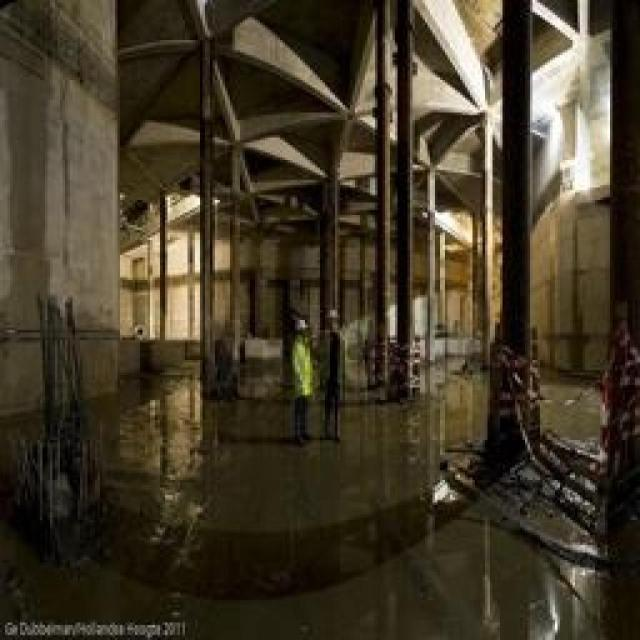Helmet: (312, 324, 352, 412), (317, 304, 357, 333), (286, 311, 314, 338)
Safety Vest: (276, 327, 326, 413)
